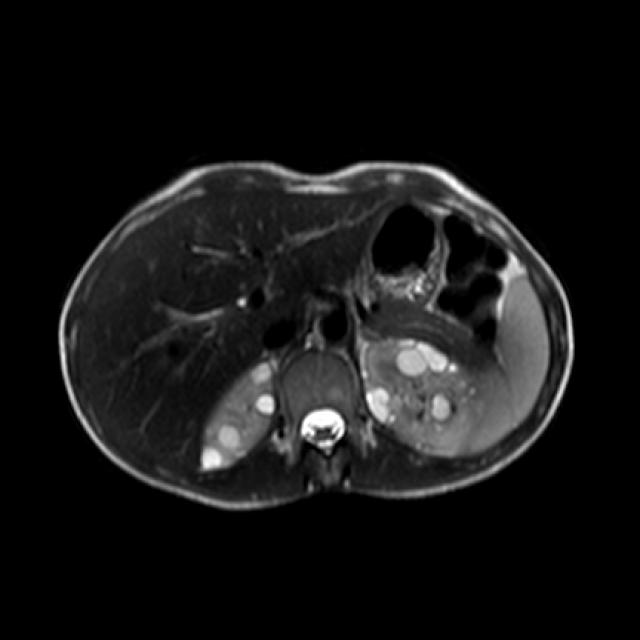sag: (197, 356, 277, 469)
sol: (363, 336, 485, 454)
